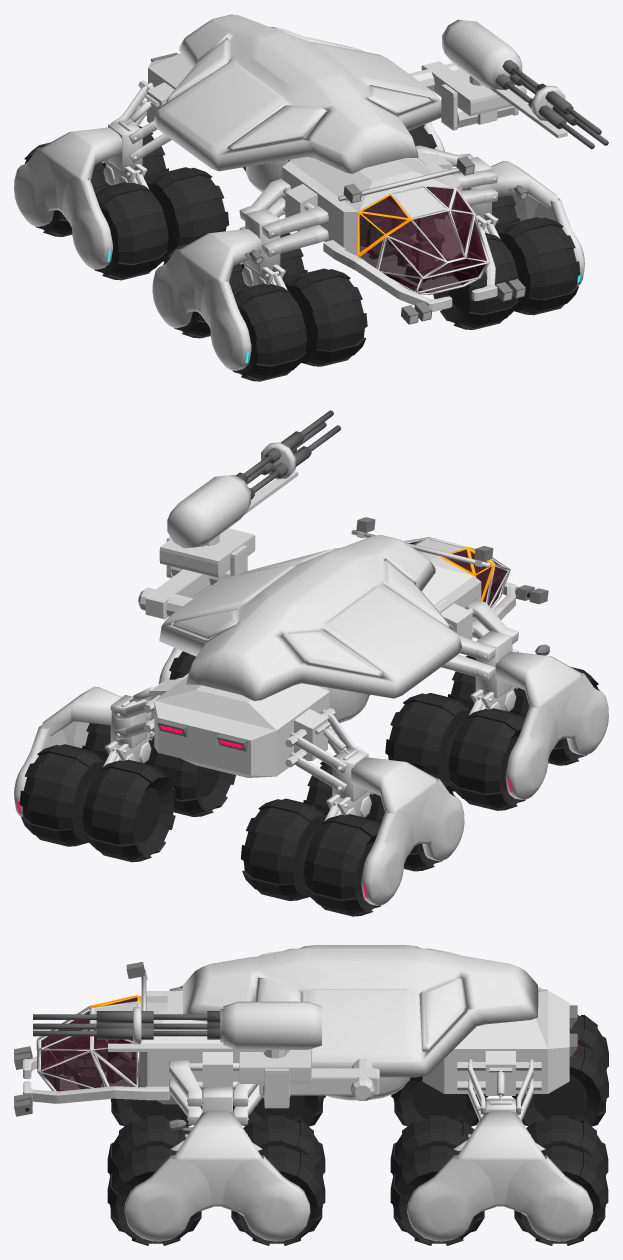
The model's file is turtle_rover.fbx.
The picture shows the model from 3 angles, top to bottom: view 1: azimuth 30°, elevation 25°; view 2: azimuth 150°, elevation 25°; view 3: azimuth 270°, elevation 25°; orthographic projection. The views are drawn at different scales.
Visible parts, largest first — view 1: turtlerover, turtlerover.194, turtlerover.178, turtlerover.200, turtlerover.001, turtlerover.142, turtlerover.119, turtlerover.206, turtlerover.122, turtlerover.121, turtlerover.118, turtlerover.120 (+27 smaller); view 2: turtlerover, turtlerover.176, turtlerover.179, turtlerover.224, turtlerover.177, turtlerover.142, turtlerover.199, turtlerover.122, turtlerover.119, turtlerover.117, turtlerover.120, turtlerover.194 (+17 smaller); view 3: turtlerover, turtlerover.194, turtlerover.224, turtlerover.199, turtlerover.176, turtlerover.175, turtlerover.001, turtlerover.114, turtlerover.198, turtlerover.112, turtlerover.115, turtlerover.179 (+27 smaller).
Part boxes in pixels (x1,y1,x2,y2): turtlerover: (153,14,441,173); turtlerover.194: (282,150,486,292); turtlerover.178: (232,268,367,381); turtlerover.200: (94,167,229,280); turtlerover.001: (433,217,580,329); turtlerover.142: (442,19,522,90); turtlerover.119: (39,127,121,212); turtlerover.206: (357,185,489,294); turtlerover.122: (178,229,261,313); turtlerover.121: (200,278,251,370); turtlerover.118: (62,177,112,269); turtlerover.120: (152,248,196,328); turtlerover: (159,534,462,700); turtlerover.176: (19,744,176,862); turtlerover.179: (240,798,381,916); turtlerover.224: (154,676,329,777); turtlerover.177: (385,693,525,810); turtlerover.142: (167,475,250,548); turtlerover.199: (82,712,235,816); turtlerover.122: (495,651,582,740); turtlerover.119: (351,757,438,846); turtlerover.117: (361,809,414,905); turtlerover.120: (505,704,558,799); turtlerover.194: (409,539,507,619); turtlerover: (182,945,538,1077); turtlerover.194: (41,991,239,1094); turtlerover.224: (422,990,569,1093); turtlerover.199: (390,1115,484,1245); turtlerover.176: (514,1115,608,1245); turtlerover.175: (231,1115,325,1245); turtlerover.001: (107,1115,201,1245); turtlerover.114: (407,1155,496,1241); turtlerover.198: (124,1155,213,1241); turtlerover.112: (221,1155,310,1241); turtlerover.115: (504,1155,592,1241); turtlerover.179: (512,1015,608,1126).
Bounding box in the file's own units: 2758 × 1736 × 3941.
